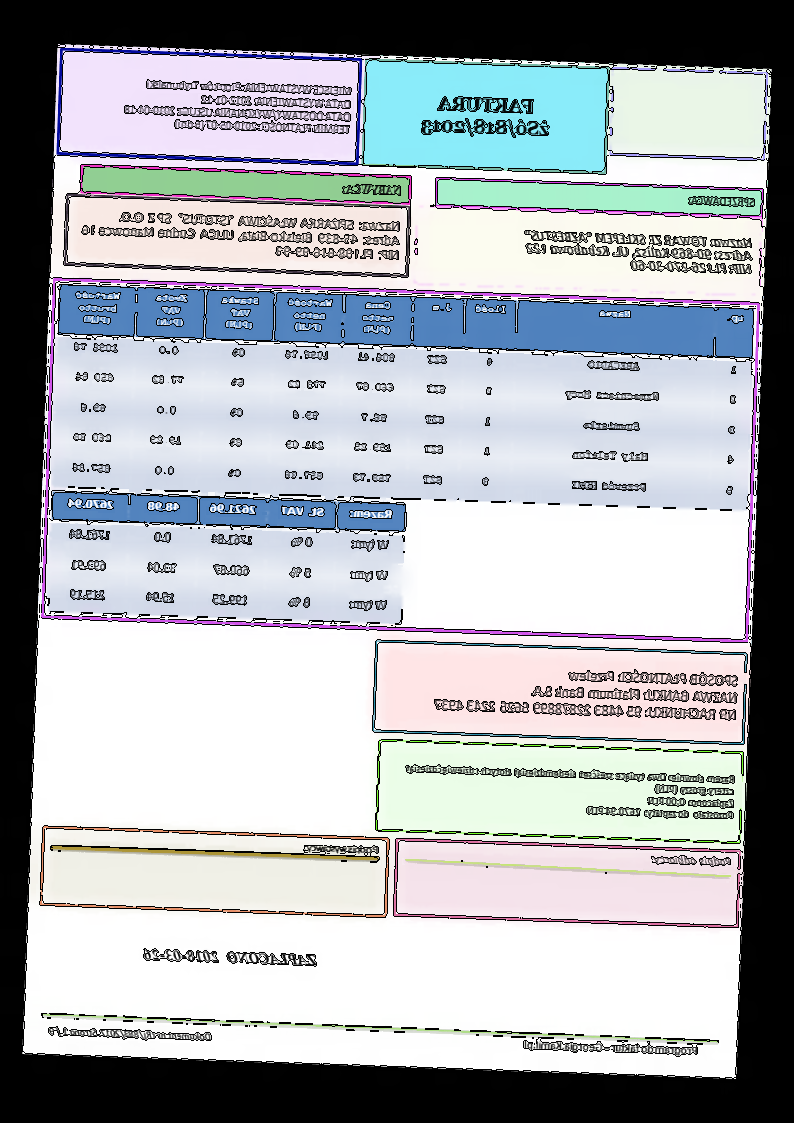Table: (51, 283, 756, 512), (48, 490, 408, 624)
TextBox: (431, 660, 740, 724), (403, 762, 737, 821), (79, 209, 404, 263), (122, 74, 354, 138), (523, 229, 755, 276), (418, 93, 554, 141), (141, 945, 321, 969), (522, 1036, 700, 1058), (47, 1024, 213, 1045), (648, 852, 734, 871), (304, 841, 381, 858), (687, 193, 758, 210), (341, 182, 404, 198)
